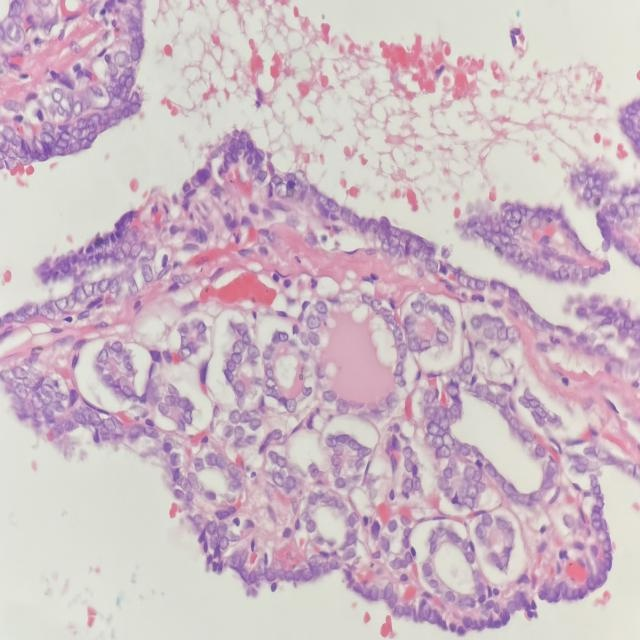TC: (271, 163, 289, 213), (37, 374, 62, 405), (297, 513, 322, 541), (137, 258, 158, 291), (267, 468, 288, 501), (100, 410, 121, 443), (51, 284, 69, 321), (227, 419, 249, 449), (458, 348, 478, 380), (416, 556, 440, 582), (107, 270, 127, 301), (432, 328, 454, 355), (395, 437, 417, 464), (311, 291, 333, 317), (408, 289, 426, 319), (523, 212, 545, 236), (245, 335, 263, 364), (201, 443, 216, 477), (333, 396, 351, 424), (506, 322, 525, 348), (457, 466, 481, 484), (478, 506, 496, 529), (163, 388, 179, 412), (441, 430, 459, 451), (283, 397, 301, 417)
